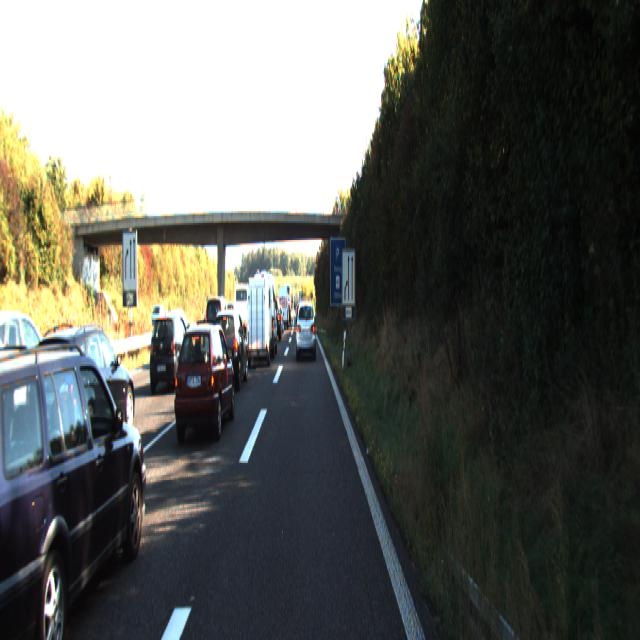Car: (0, 334, 153, 638), (25, 320, 137, 470), (0, 308, 67, 458), (173, 321, 236, 443), (148, 311, 195, 392), (210, 305, 248, 389), (244, 273, 272, 367), (251, 268, 278, 355), (296, 296, 316, 358), (278, 284, 289, 327)
